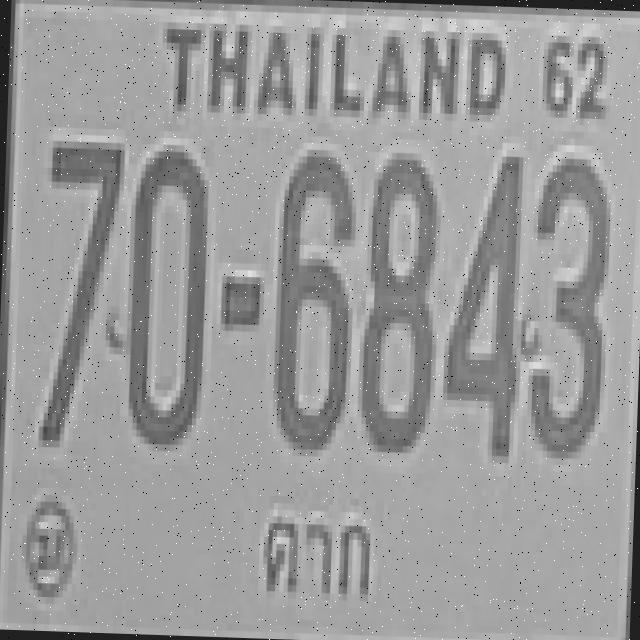0: (123, 143, 210, 445)
3: (524, 150, 610, 452)
4: (438, 147, 525, 456)
6: (268, 152, 356, 446)
7: (38, 137, 125, 446), (44, 137, 122, 350)
8: (356, 151, 438, 446)
Tak: (260, 505, 384, 601)
